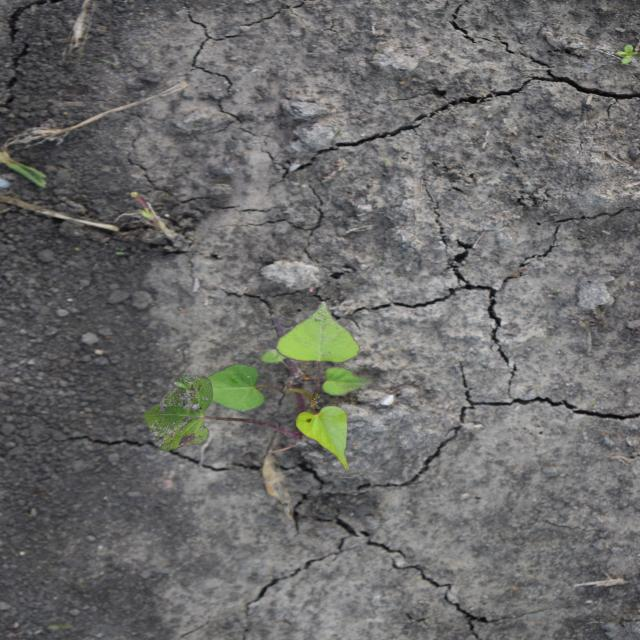MorningGlory: (139, 299, 376, 474)
